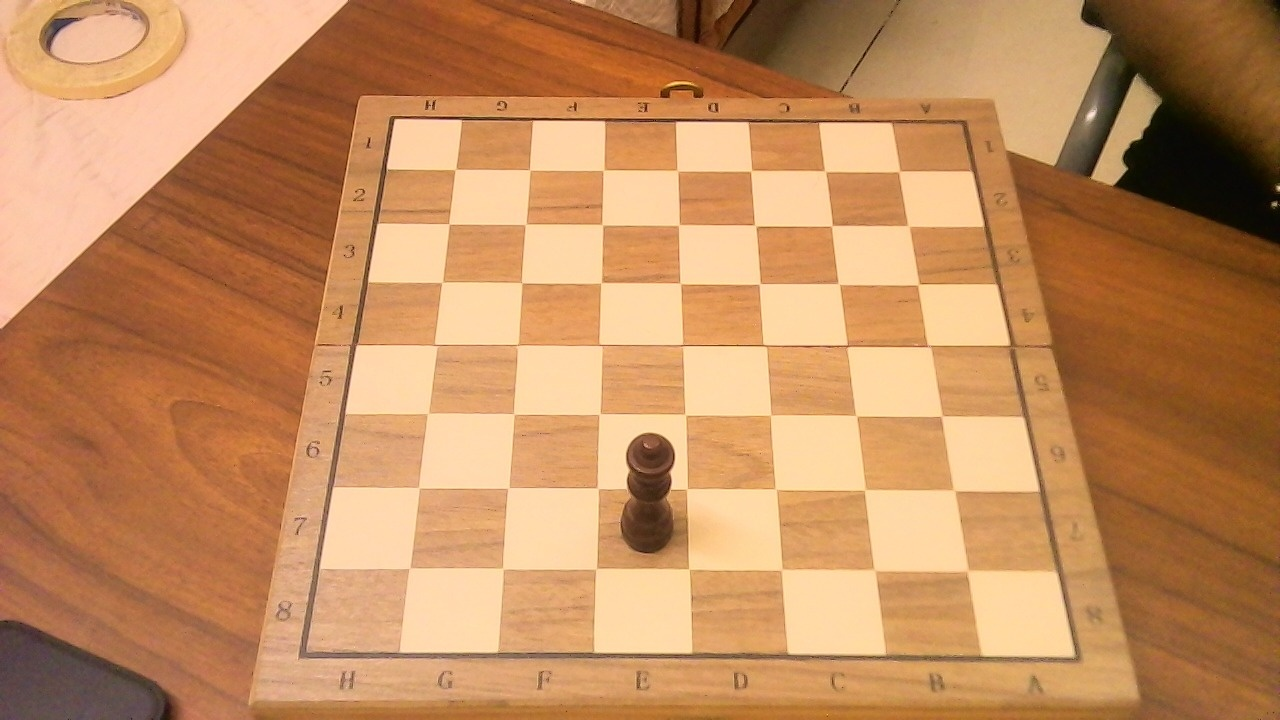q: (606, 418, 691, 557)
